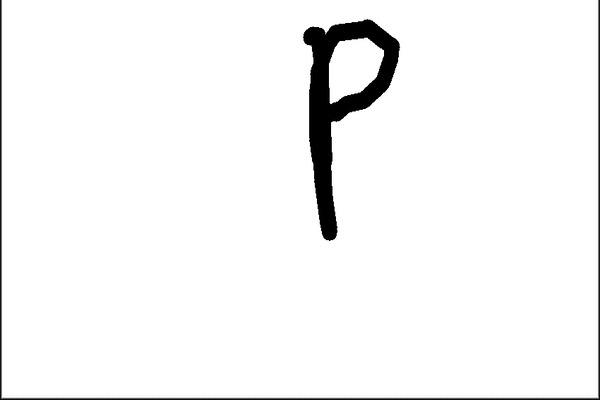P: (275, 19, 422, 250)
